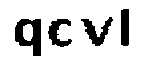c: (50, 16, 74, 52)
l: (118, 5, 135, 52)
q: (12, 15, 45, 60)
v: (79, 14, 113, 49)
